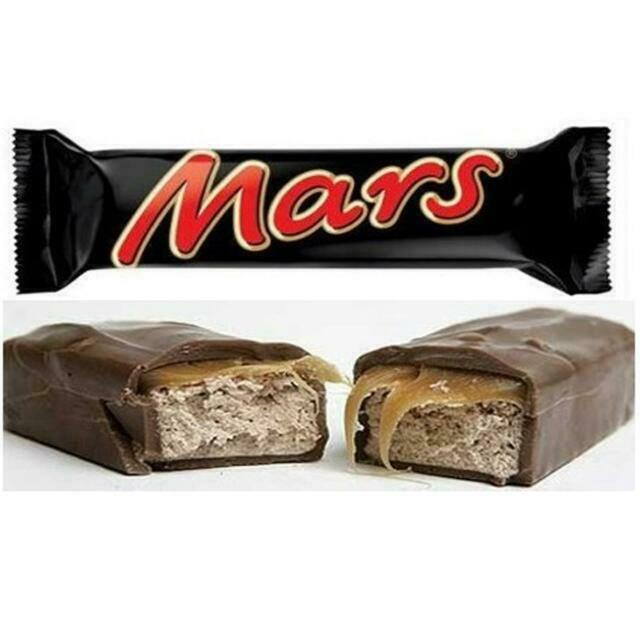Chocolate bar: (10, 123, 622, 296)
Chocolate bar packaged: (3, 313, 332, 483), (341, 304, 640, 489)
